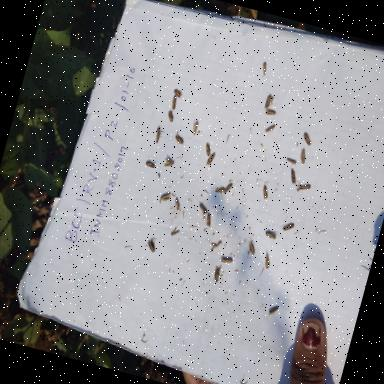pbw: (293, 177, 314, 195), (152, 124, 168, 147), (210, 264, 226, 286), (260, 249, 274, 271), (262, 92, 277, 112), (144, 238, 160, 256), (200, 140, 216, 158), (296, 146, 310, 166), (219, 251, 236, 267), (244, 238, 258, 257), (204, 150, 218, 169), (162, 154, 178, 170), (264, 120, 278, 138), (262, 106, 280, 120), (263, 228, 281, 242), (158, 189, 173, 205), (279, 220, 295, 235), (258, 60, 270, 80), (196, 201, 210, 218), (300, 131, 314, 148), (172, 131, 186, 148), (286, 168, 299, 186), (258, 182, 270, 201), (190, 118, 201, 138), (171, 196, 183, 213), (284, 155, 298, 169), (222, 180, 234, 196), (168, 96, 180, 112), (203, 213, 214, 230), (267, 304, 280, 318), (165, 109, 177, 124), (213, 184, 226, 196), (172, 88, 184, 100), (144, 160, 158, 170)
